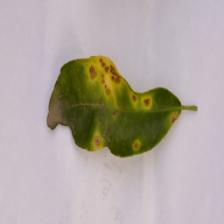canker: (75, 50, 171, 159)
